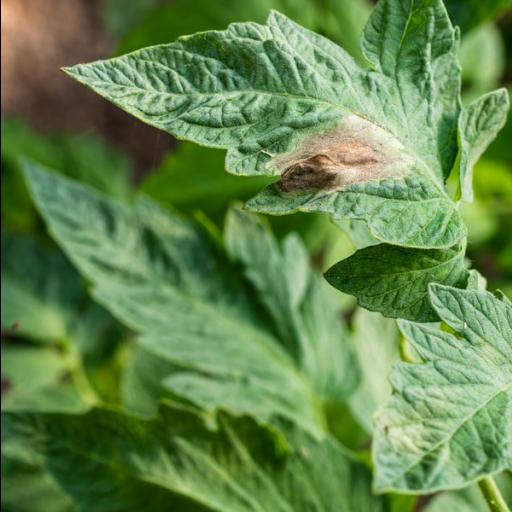disease_tomato: (52, 1, 510, 253), (370, 282, 508, 507)
